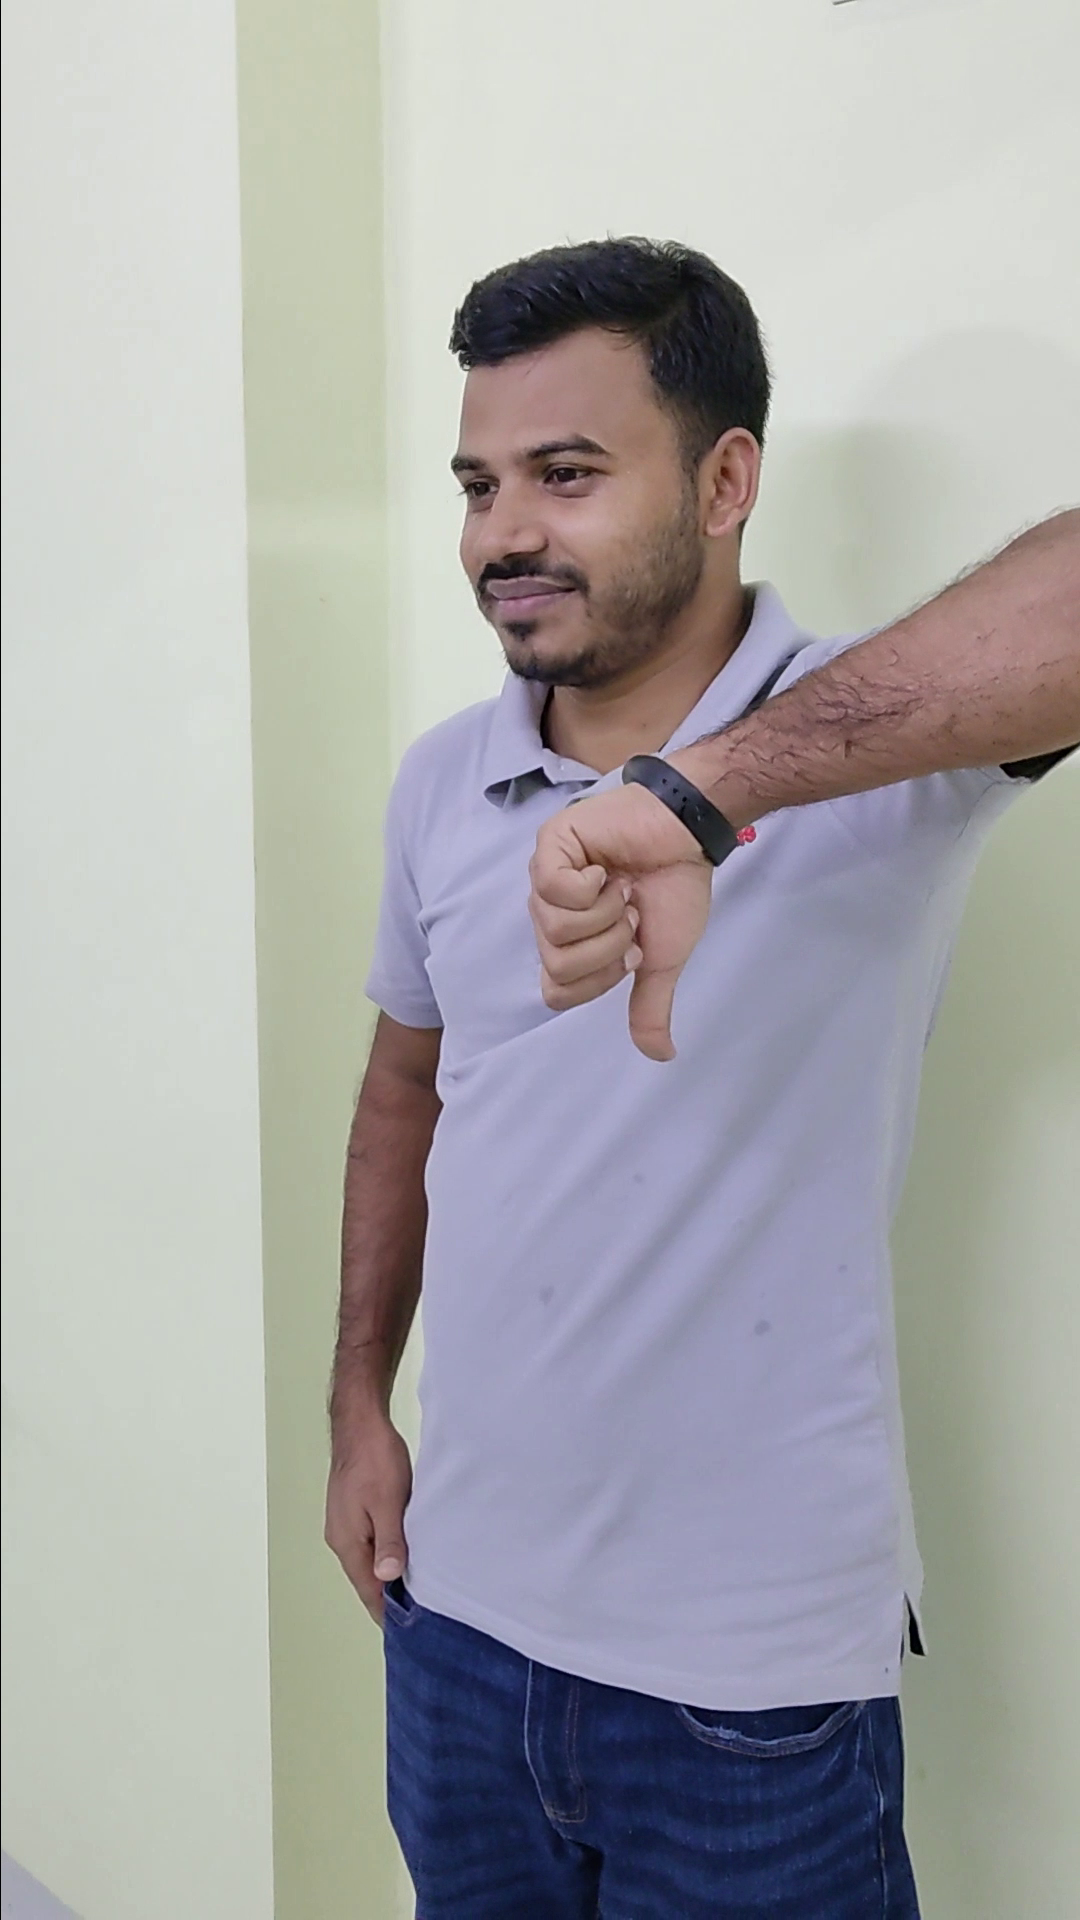Dislike: (497, 749, 728, 1075)
None: (294, 1354, 440, 1647)
